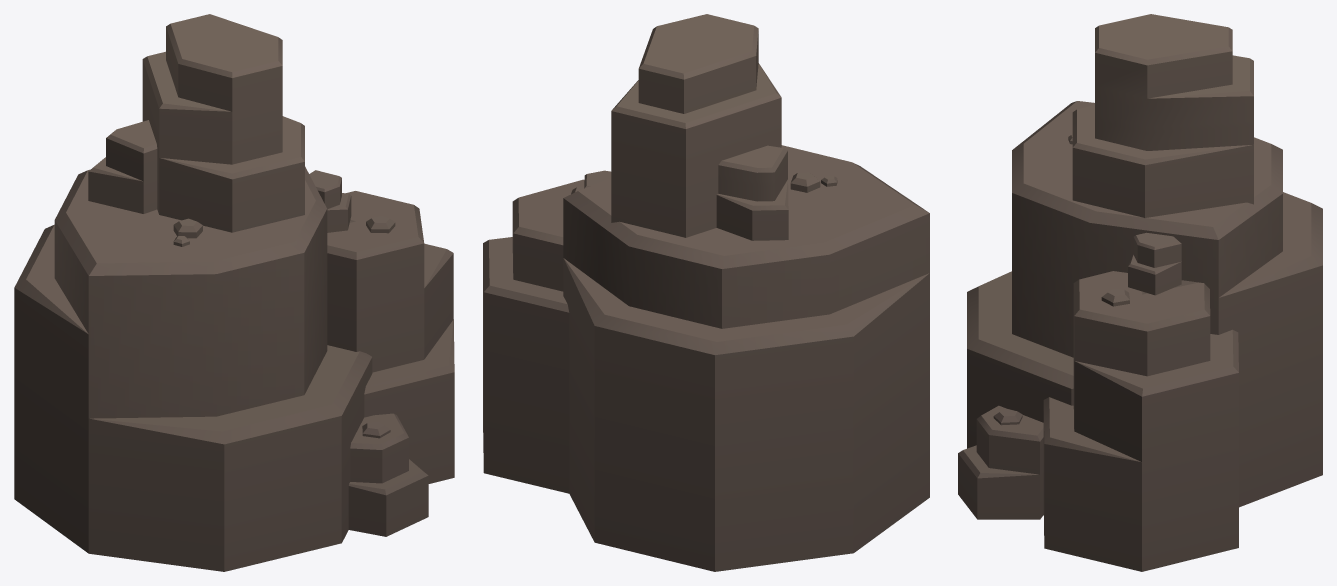
Rendered from Rock_1_L_Color6.fbx.
3 renders of one model, left to right at view 1: azimuth 30°, elevation 25°; view 2: azimuth 150°, elevation 25°; view 3: azimuth 270°, elevation 25°, orthographic. The views are drawn at different scales.
Visible parts, largest first — view 1: Rock_1_L_Color6; view 2: Rock_1_L_Color6; view 3: Rock_1_L_Color6.
Part boxes in pixels (x1=…): Rock_1_L_Color6: x1=14, y1=14, x2=454, y2=571; Rock_1_L_Color6: x1=483, y1=14, x2=929, y2=571; Rock_1_L_Color6: x1=958, y1=14, x2=1322, y2=571.
Bounding box in the file's own units: 3.29 × 3.4 × 2.62.
